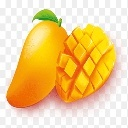mango: (6, 19, 69, 108)
